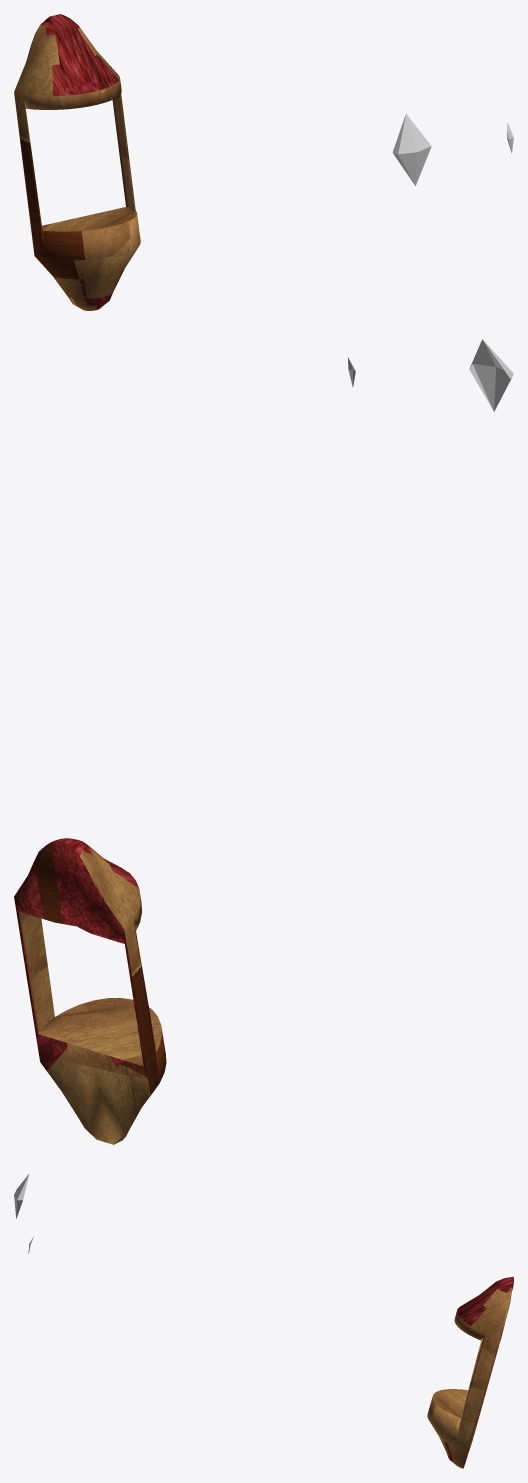
The model's file is HeartParts.fbx.
The picture shows the model from 3 angles, top to bottom: view 1: azimuth 30°, elevation 25°; view 2: azimuth 150°, elevation 25°; view 3: azimuth 270°, elevation 25°; orthographic projection. The views are drawn at different scales.
Parts seen in each view (by area): view 1: CoreDrums, Plane; view 2: CoreDrums, Plane; view 3: CoreDrums.
Part boxes in pixels (x1=…): CoreDrums: x1=14, y1=14, x2=140, y2=310; Plane: x1=392, y1=113, x2=431, y2=185; CoreDrums: x1=14, y1=838, x2=166, y2=1144; Plane: x1=469, y1=339, x2=513, y2=411; CoreDrums: x1=427, y1=1276, x2=513, y2=1468.
Bounding box in the file's own units: 57.07 × 144 × 221.
